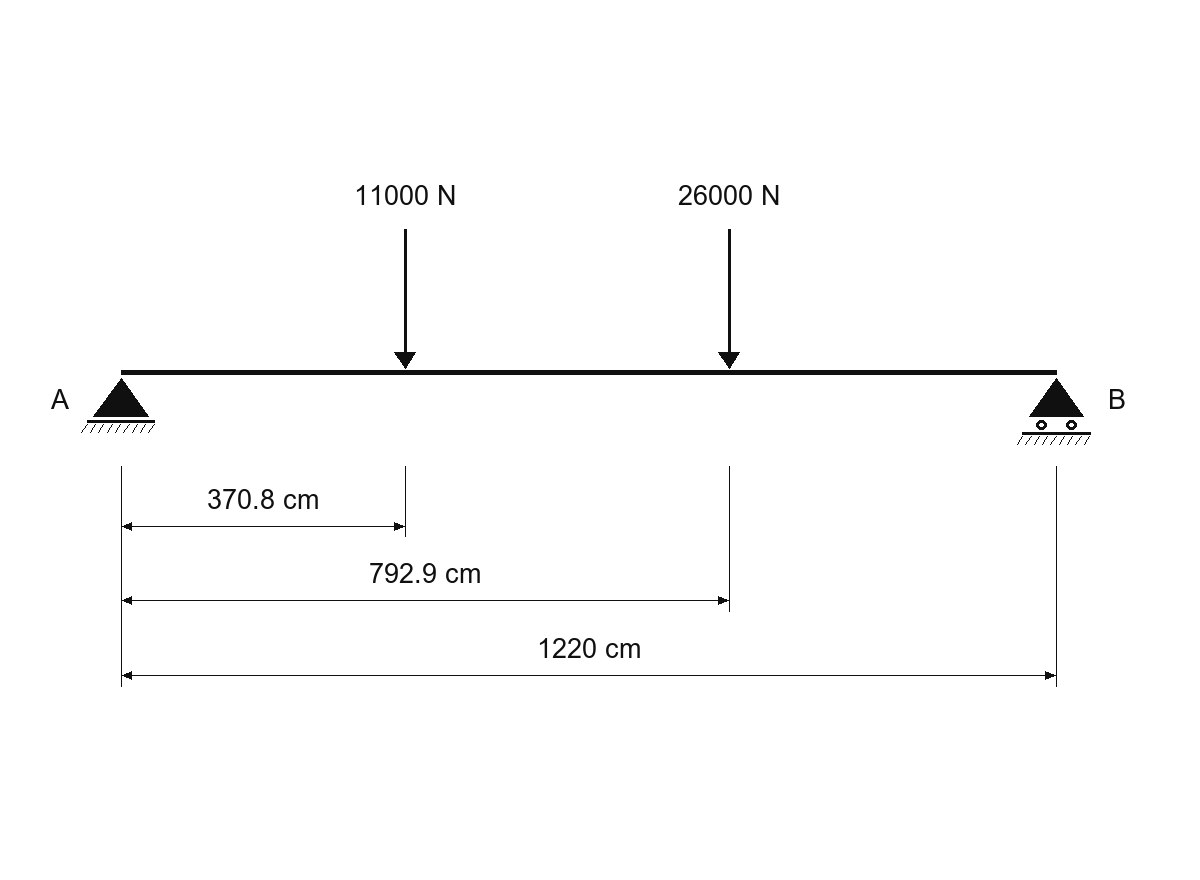pin_support: (81, 378, 155, 433)
point_load: (394, 229, 416, 369), (718, 229, 740, 369)
roller_support: (1017, 378, 1091, 445)
